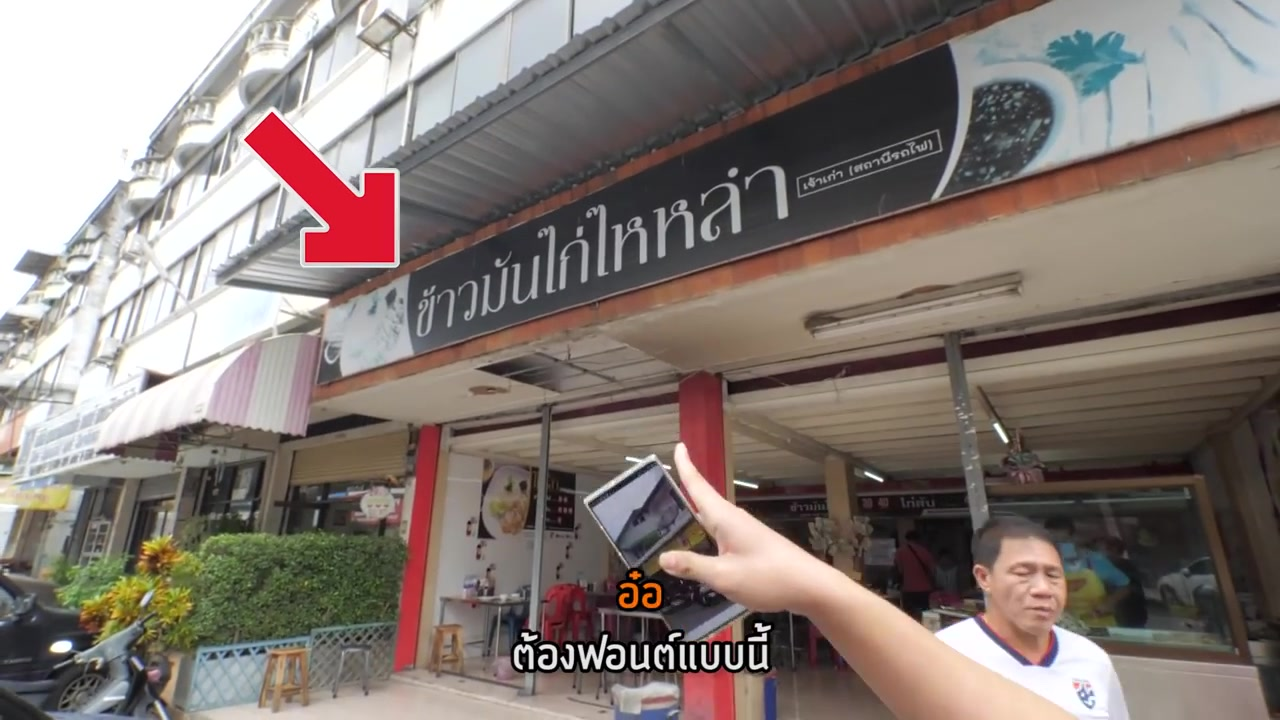text-label: (413, 137, 792, 343), (510, 617, 773, 675), (610, 566, 668, 615)
